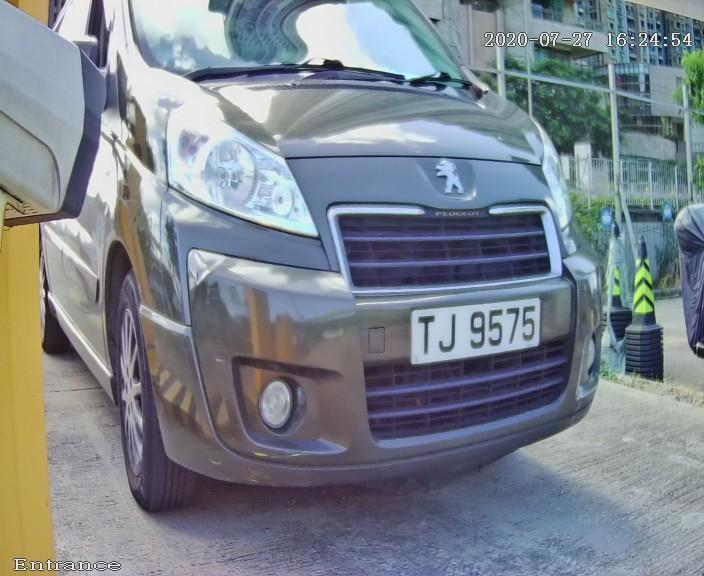privatecar: (48, 34, 642, 499)
